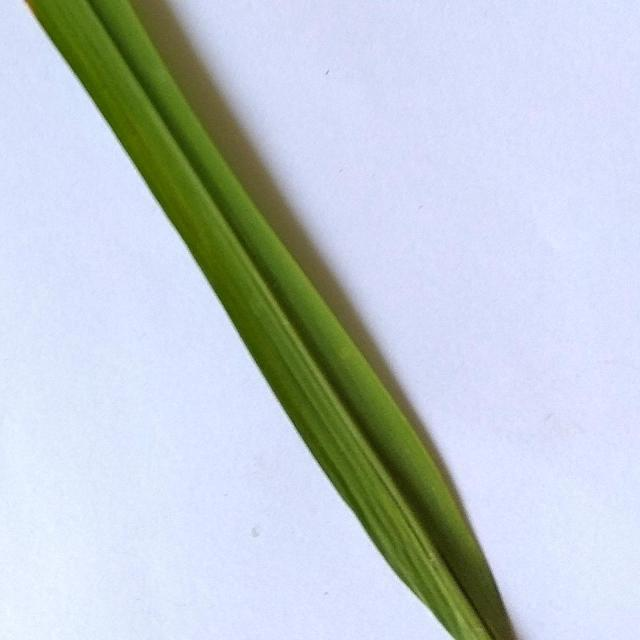healthy: (24, 1, 564, 640)
